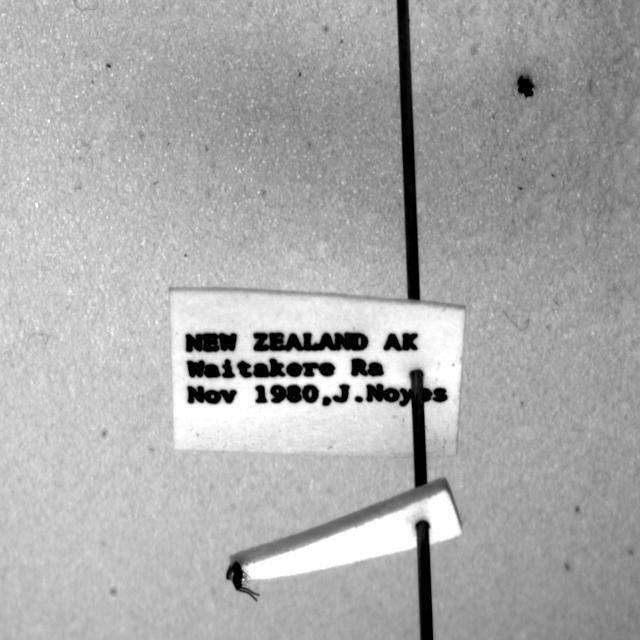typed_label: (170, 289, 465, 456)
